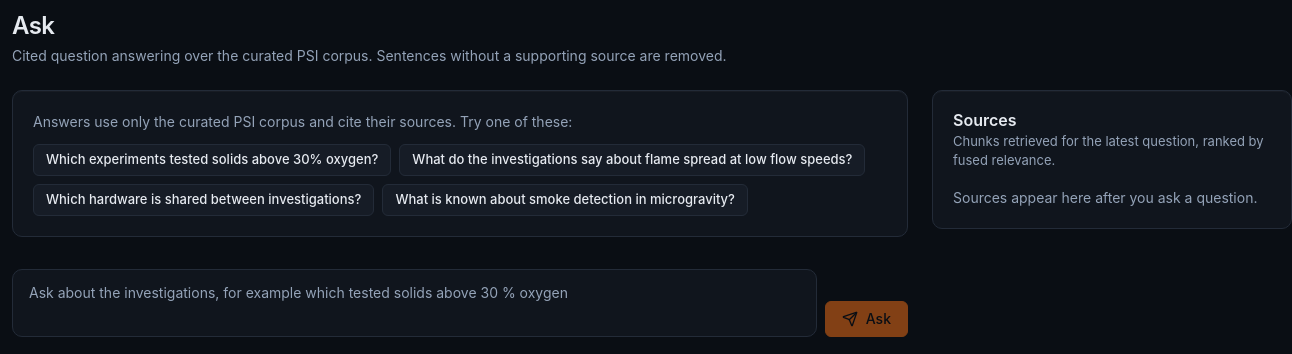
it: Ask page /ask (doc 10 section 5, CF-09) › FR-11: an HTTP failure before the stream is shown as an error
Step 1. Replace the text in the text box with test id "ask-input" with "Which experiments tested solids above 30% oxygen?" → (414, 303), box [12, 269, 817, 337]
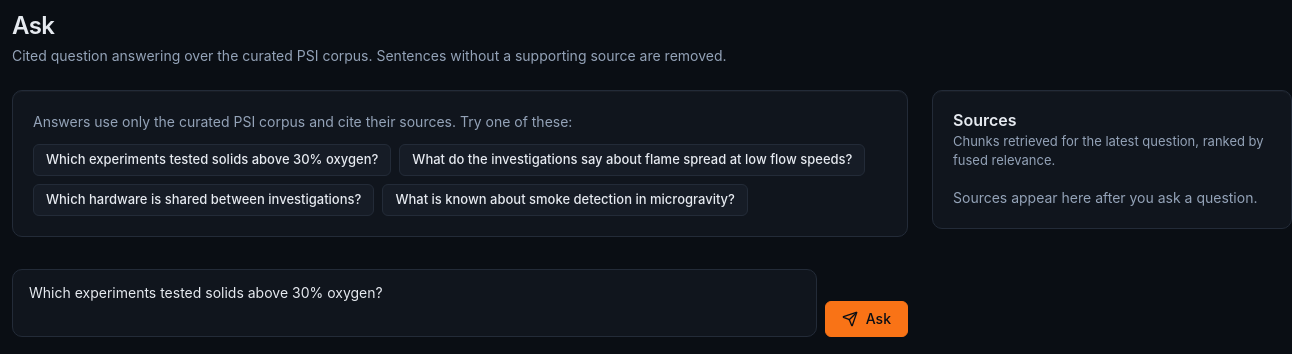
Step 2. Click the button "Ask" → (866, 319), box [825, 301, 908, 337]
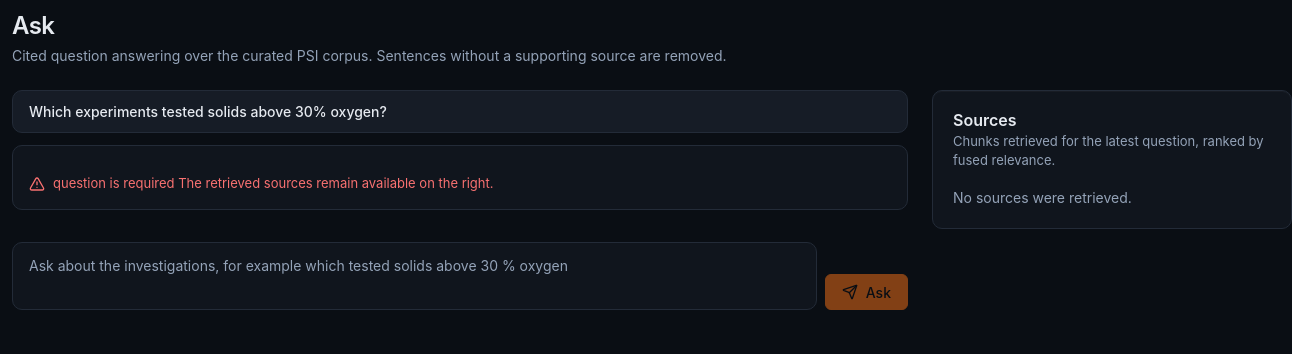
Expected: the message shows "question is required", [53, 175, 175, 191]
